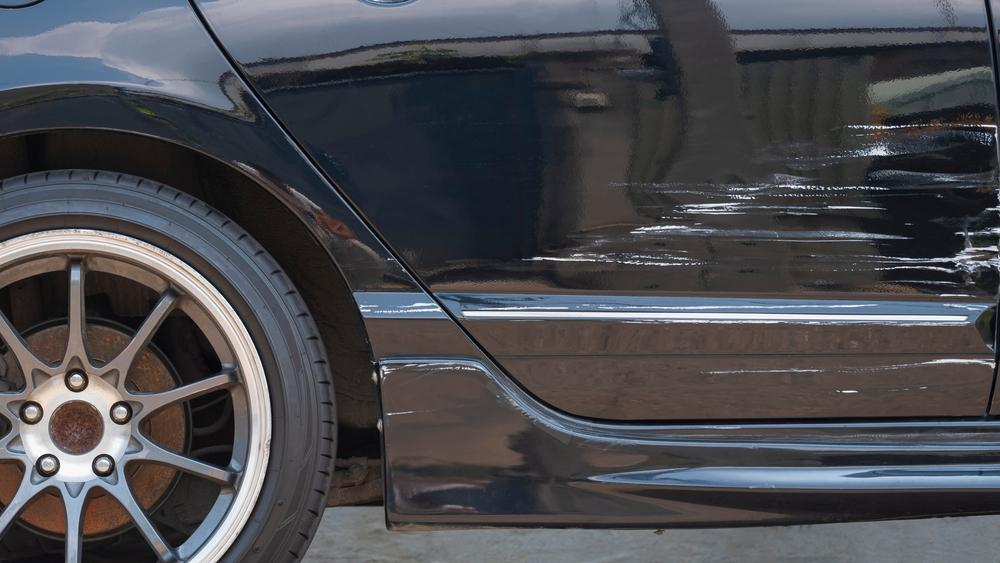scratch: (510, 112, 1000, 386), (384, 361, 541, 427)
